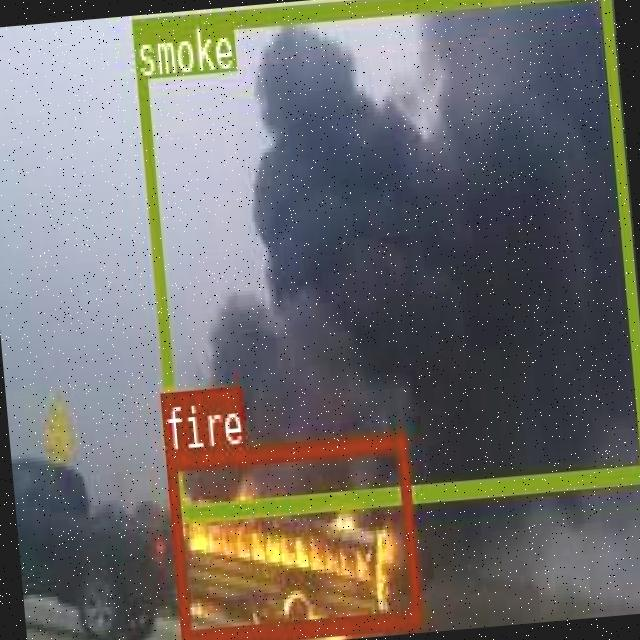fire: (163, 430, 420, 640)
smoke: (130, 0, 640, 519)
